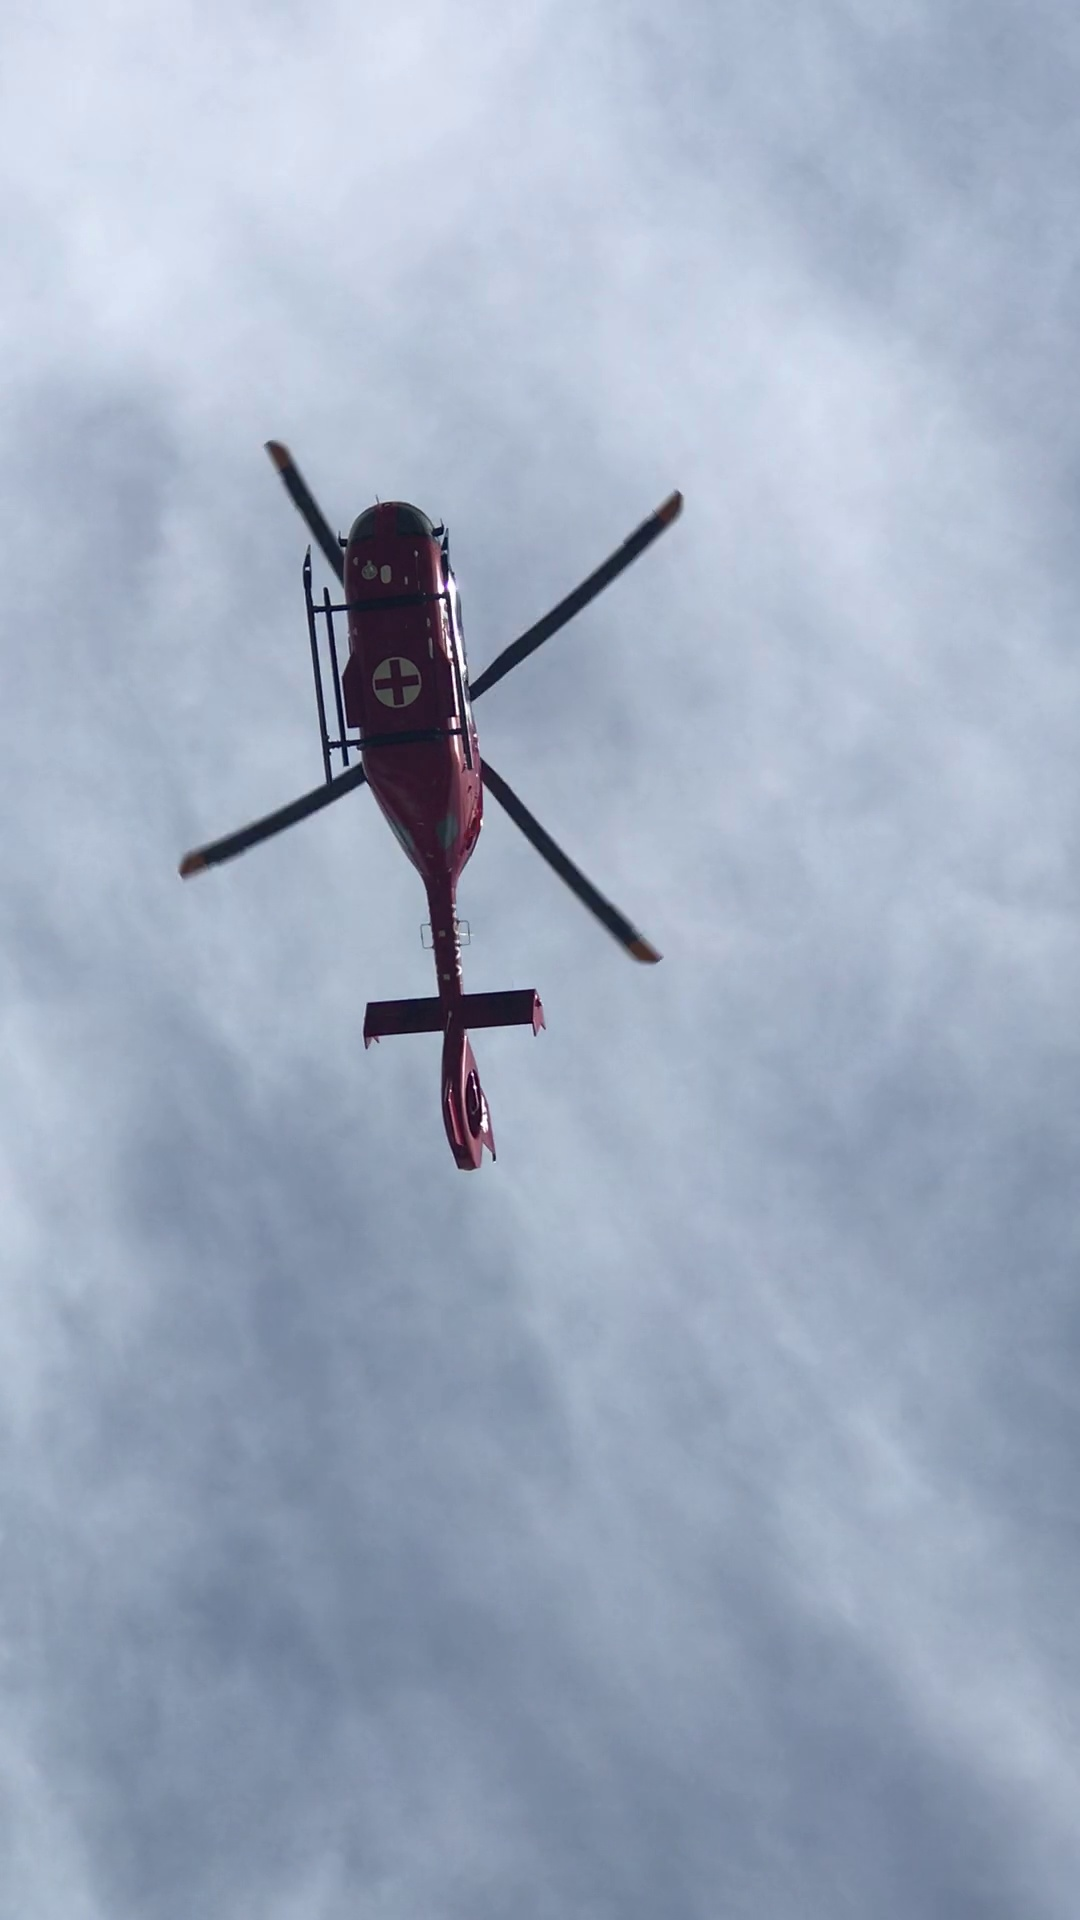heli: (177, 433, 686, 1171)
